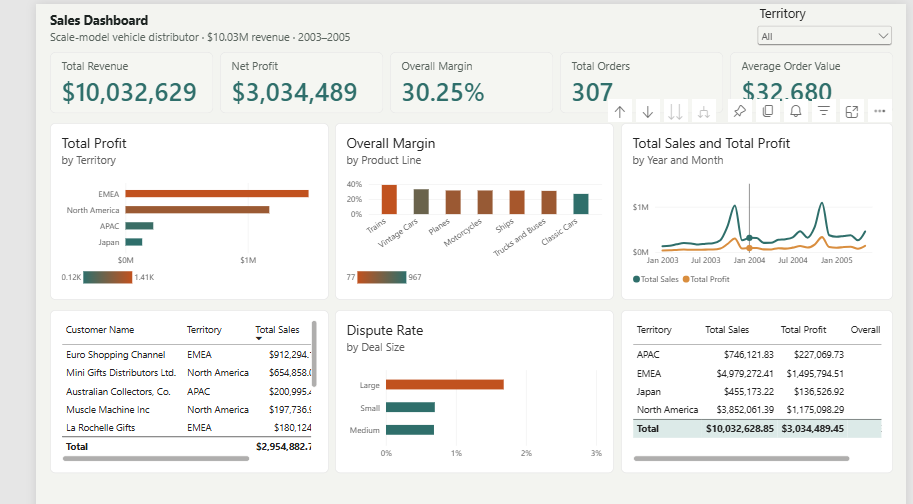

This screenshot's page, from the dashboard's own definition file:
{"tool":"powerbi","page":{"name":"Page 1","canvas":[1280,900],"ordinal":0},"visuals":[{"type":"textbox","title":"Sales Dashboard","box":[20,10,700,50],"z":0},{"type":"slicer","fields":{"Values":["Raw Data.Territory"]},"box":[1056,0,208,64],"z":1},{"type":"cardVisual","fields":{"Data":["Raw Data.Total Sales Display"]},"box":[20,70,240,90],"z":2},{"type":"cardVisual","fields":{"Data":["Raw Data.Total Profit Display"]},"box":[270,70,240,90],"z":3},{"type":"cardVisual","fields":{"Data":["Raw Data.Overall Margin"]},"box":[520,70,240,90],"z":4},{"type":"cardVisual","fields":{"Data":["Raw Data.Distinct Orders Display"]},"box":[770,70,240,90],"z":5},{"type":"cardVisual","fields":{"Data":["Raw Data.Avg Order Value Display"]},"box":[1020,70,240,90],"z":6},{"type":"clusteredBarChart","fields":{"Category":["Raw Data.Territory"],"Y":["Raw Data.Total Profit"]},"box":[20,175,410,260],"z":7},{"type":"clusteredColumnChart","fields":{"Category":["Raw Data.Product Line"],"Y":["Raw Data.Overall Margin"]},"box":[440,175,410,260],"z":8},{"type":"lineChart","fields":{"Category":["Raw Data.Order Date.Variation.Date Hierarchy.Year","Raw Data.Order Date.Variation.Date Hierarchy.Month"],"Y":["Raw Data.Total Sales","Raw Data.Total Profit"]},"box":[860,175,400,260],"z":9},{"type":"tableEx","fields":{"Values":["Raw Data.Customer Name","Raw Data.Territory","Raw Data.Total Sales","Raw Data.Distinct Orders"]},"box":[20,450,410,240],"z":10},{"type":"clusteredBarChart","fields":{"Category":["Raw Data.Deal Size"],"Y":["Raw Data.Dispute Rate"]},"box":[440,450,410,240],"z":11},{"type":"tableEx","fields":{"Values":["Raw Data.Territory","Raw Data.Total Sales","Raw Data.Total Profit","Raw Data.Overall Margin"]},"box":[860,450,400,240],"z":12}]}

Visuals, with their boxes on the page's 1280x900 design canvas (x1, y1, x2, y2). These are canvas units, not pixel positions in the 913x504 screenshot, which may show the page scaled, cropped or inside an application window:
"Sales Dashboard" textbox: [20, 10, 720, 60]
slicer - Raw Data.Territory: [1056, 0, 1264, 64]
cardVisual - Raw Data.Total Sales Display: [20, 70, 260, 160]
cardVisual - Raw Data.Total Profit Display: [270, 70, 510, 160]
cardVisual - Raw Data.Overall Margin: [520, 70, 760, 160]
cardVisual - Raw Data.Distinct Orders Display: [770, 70, 1010, 160]
cardVisual - Raw Data.Avg Order Value Display: [1020, 70, 1260, 160]
clusteredBarChart - Raw Data.Territory x Raw Data.Total Profit: [20, 175, 430, 435]
clusteredColumnChart - Raw Data.Product Line x Raw Data.Overall Margin: [440, 175, 850, 435]
lineChart - Raw Data.Order Date.Variation.Date Hierarchy.Year x Raw Data.Order Date.Variation.Date Hierarchy.Month: [860, 175, 1260, 435]
tableEx - Raw Data.Customer Name x Raw Data.Territory: [20, 450, 430, 690]
clusteredBarChart - Raw Data.Deal Size x Raw Data.Dispute Rate: [440, 450, 850, 690]
tableEx - Raw Data.Territory x Raw Data.Total Sales: [860, 450, 1260, 690]
